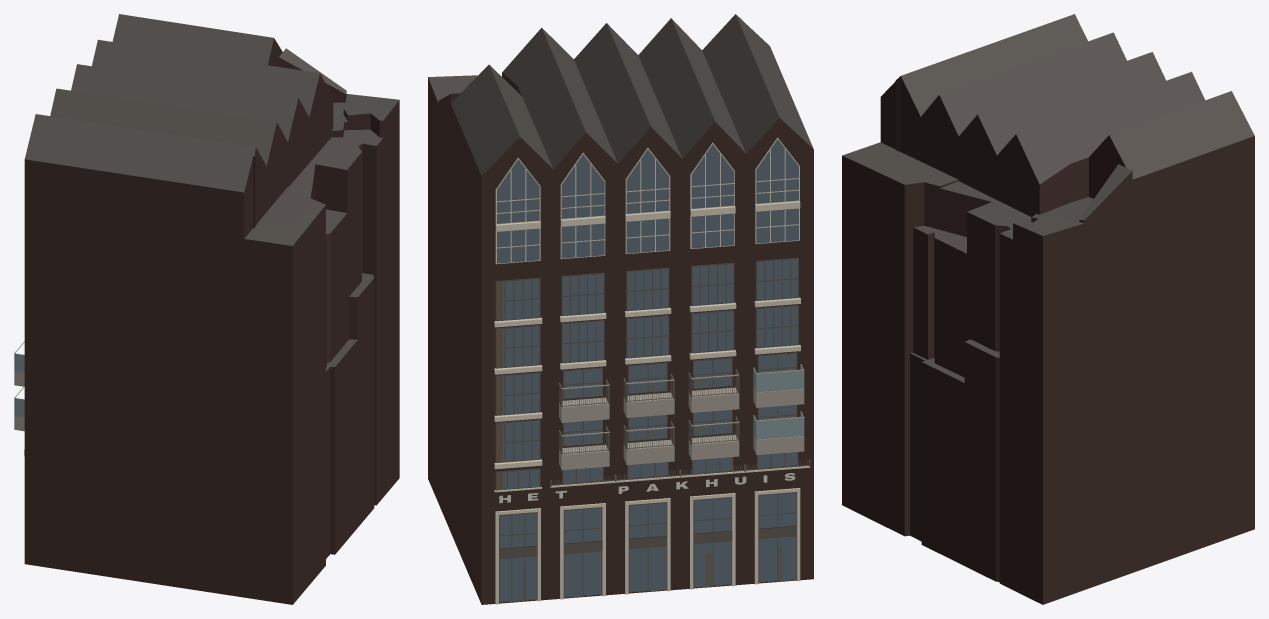
Rendered from haparandaweg-902-950.glb.
3 views of the same model, side by side, from view 1: azimuth 30°, elevation 25°; view 2: azimuth 150°, elevation 25°; view 3: azimuth 270°, elevation 25° (orthographic). The views are drawn at different scales.
Visible parts, largest first — view 1: haparandaweg-902-950; view 2: haparandaweg-902-950; view 3: haparandaweg-902-950.
Part boxes in pixels (x1,y1,x2,y2): haparandaweg-902-950: (14,14,399,604); haparandaweg-902-950: (428,14,813,604); haparandaweg-902-950: (842,14,1254,604).
Size of the model in its own units: 26.95 by 30.52 by 26.76.
